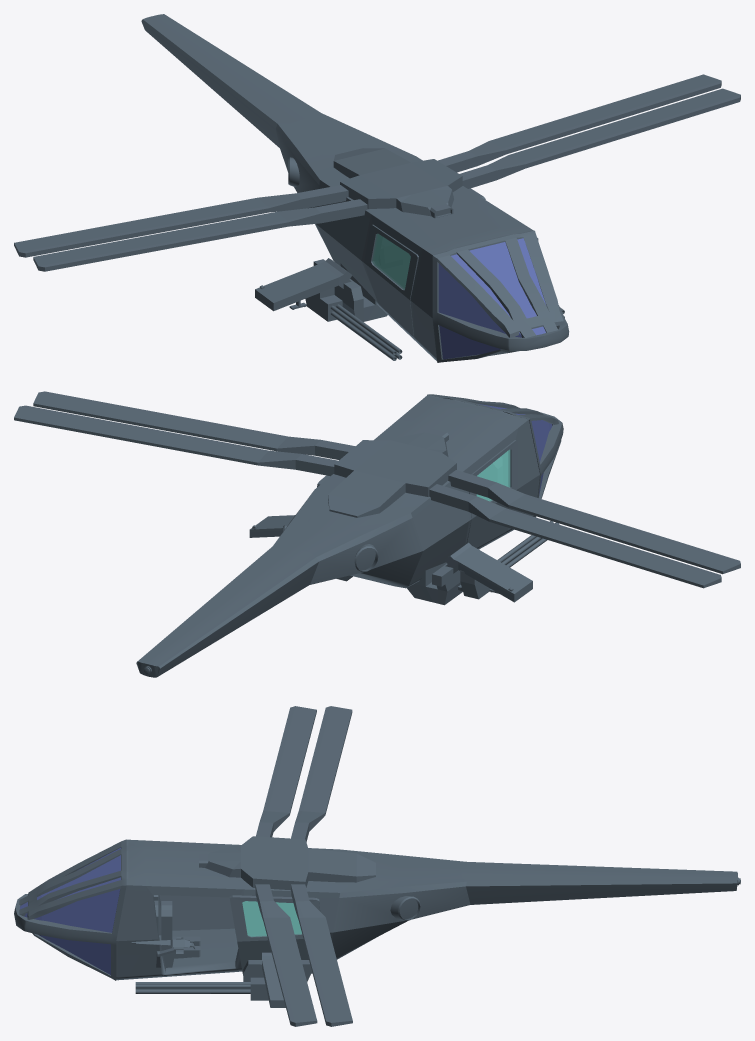
File: dragonflyfixed.fbx
3 renders of one model, top to bottom at view 1: azimuth 30°, elevation 25°; view 2: azimuth 150°, elevation 25°; view 3: azimuth 270°, elevation 25°, orthographic. The views are drawn at different scales.
Parts seen in each view (by area): view 1: dragonflyhull, backblade.001, forwardblade.001, forwardblade, backblade, door_right, barrel.001; view 2: dragonflyhull, backblade, forwardblade.001, backblade.001, forwardblade, door_right, barrel.001; view 3: dragonflyhull, forwardblade, backblade, backblade.001, forwardblade.001, door_left, door_right, barrel.
Boxes of the visible parts, x1,y1,x2,y2 form: dragonflyhull: [141, 14, 569, 362]; backblade.001: [14, 185, 348, 257]; forwardblade.001: [33, 199, 369, 271]; forwardblade: [459, 88, 740, 188]; backblade: [437, 74, 721, 172]; door_right: [364, 224, 418, 335]; barrel.001: [330, 304, 402, 360]; dragonflyhull: [136, 394, 563, 677]; backblade: [14, 405, 338, 476]; forwardblade.001: [448, 470, 740, 574]; backblade.001: [429, 484, 721, 588]; forwardblade: [33, 391, 355, 459]; door_right: [466, 440, 517, 547]; barrel.001: [497, 521, 559, 567]; dragonflyhull: [14, 836, 740, 1007]; forwardblade: [255, 884, 317, 1026]; backblade: [291, 884, 352, 1026]; backblade.001: [291, 706, 352, 842]; forwardblade.001: [256, 706, 316, 837]; door_left: [229, 895, 320, 975]; door_right: [159, 895, 234, 930]; barrel: [135, 982, 250, 993].
Size of the model in its own units: 616 by 97.9 by 597.
